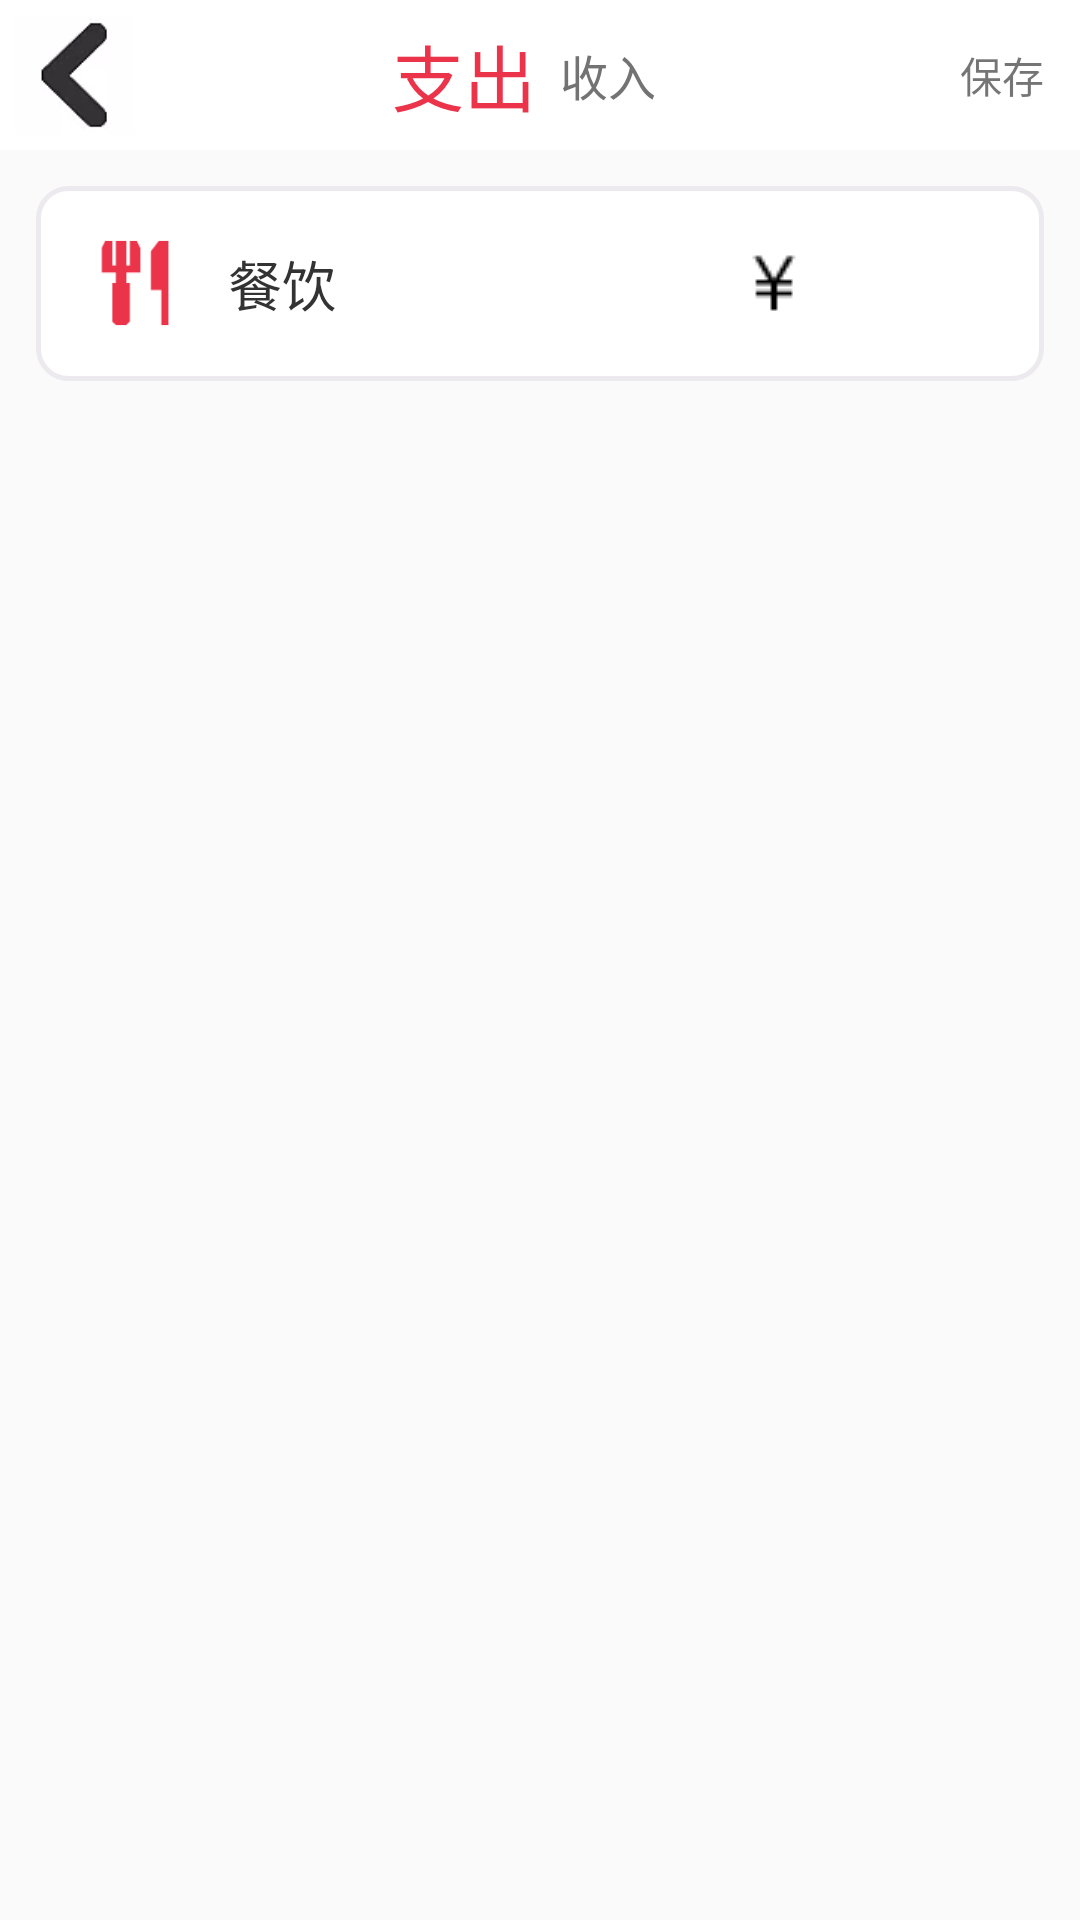

Icons on this 1080px x 1920px Android screen, each with its box as (x1, y1, x2, y2):
back: (41, 23, 107, 127)
eat: (101, 241, 169, 325)
